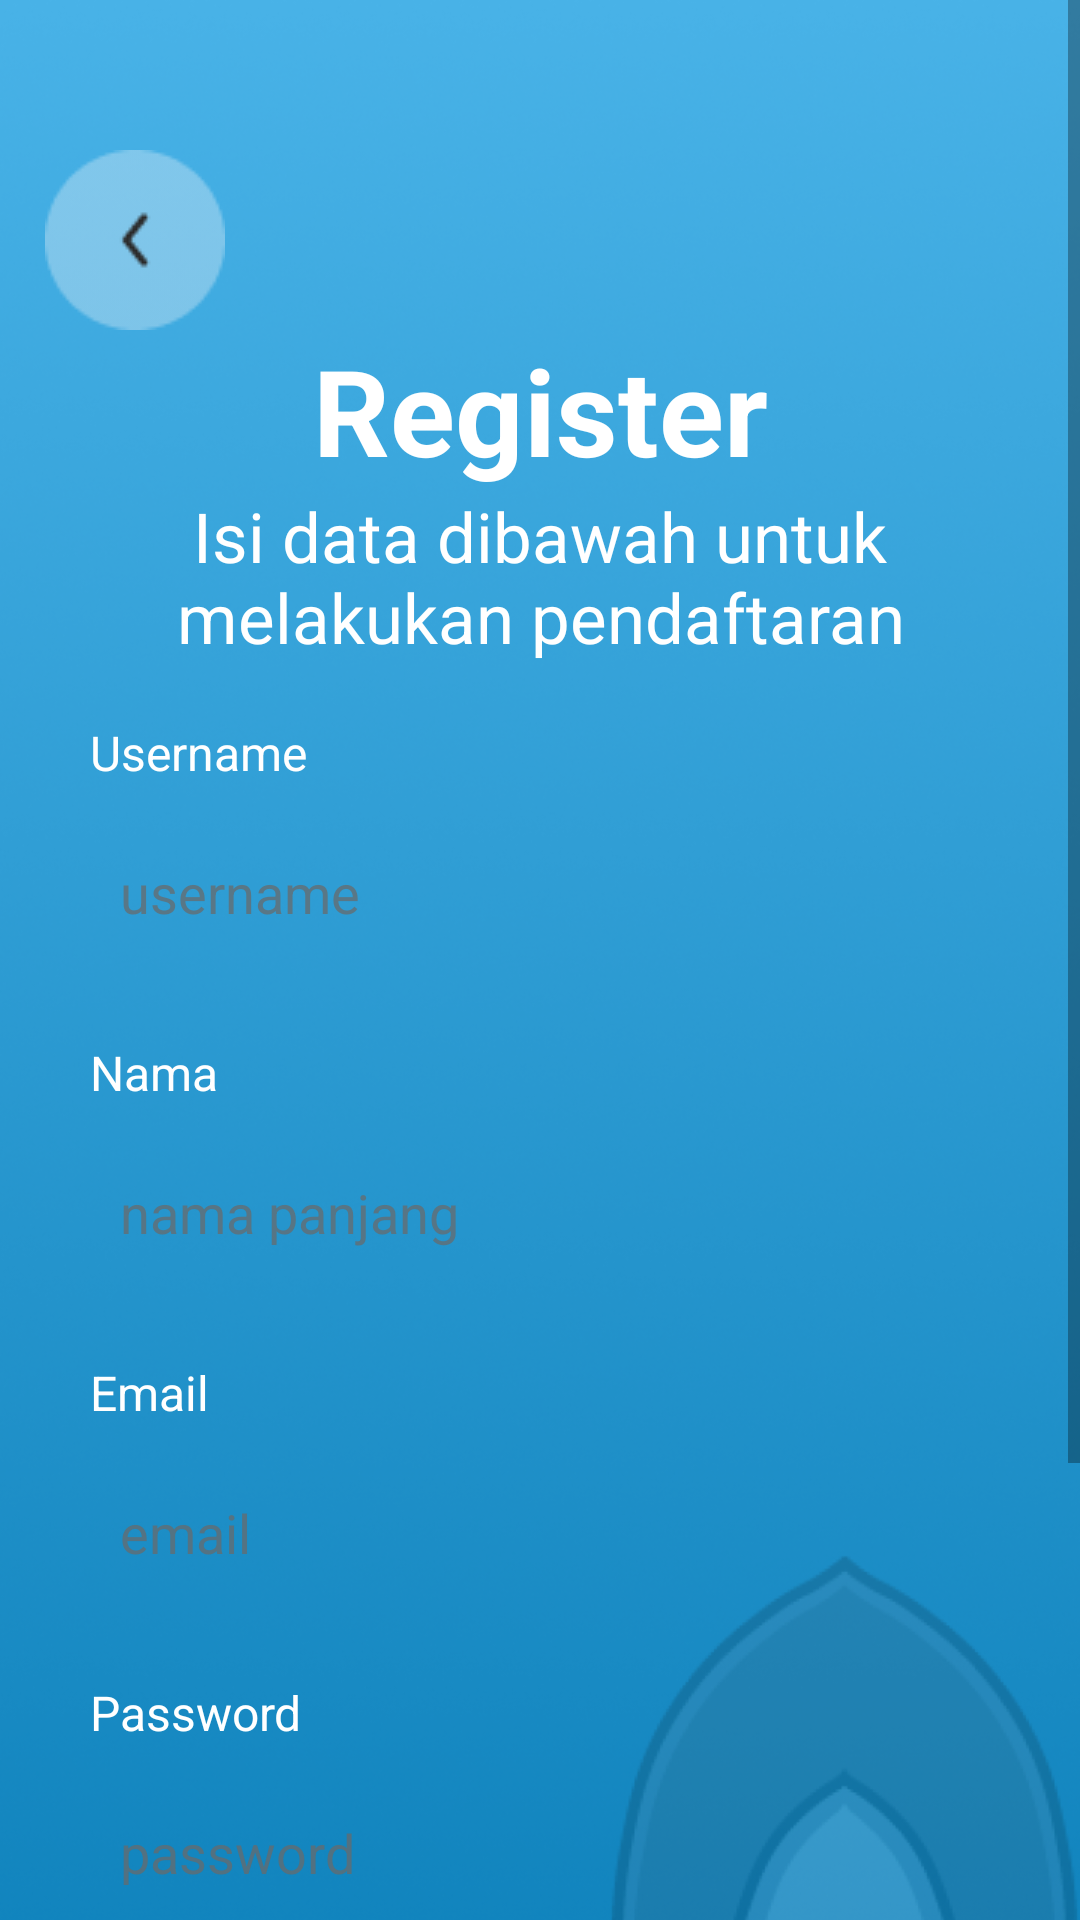

Point at icon controls on the screen. Image size 1080w x 1920h, points as point (x, y).
backbutton: point (135, 240)
